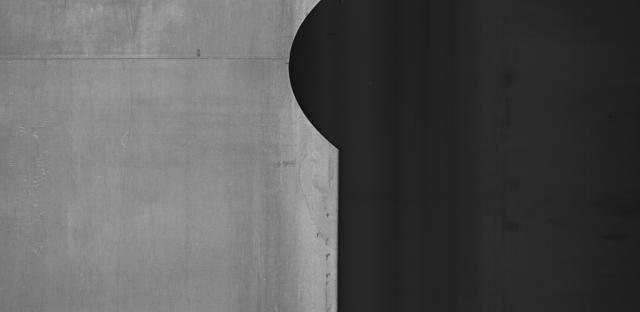crescent_gap: (277, 1, 369, 158)
welding_line: (1, 41, 317, 69)
